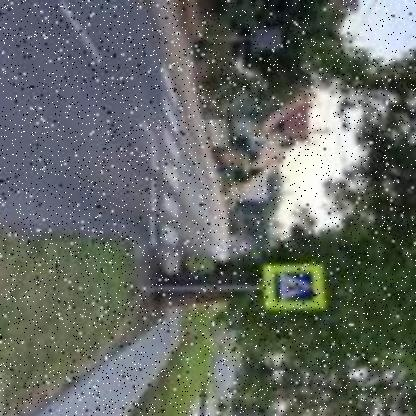Pedestrian Crossing: (270, 270, 320, 305)
